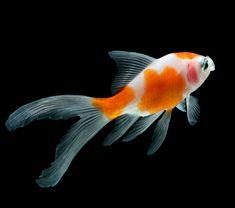goldfish: (71, 39, 222, 146)
